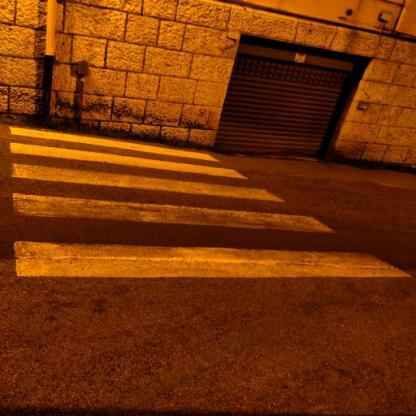crosswalk: (0, 189, 414, 288), (2, 124, 251, 181)
